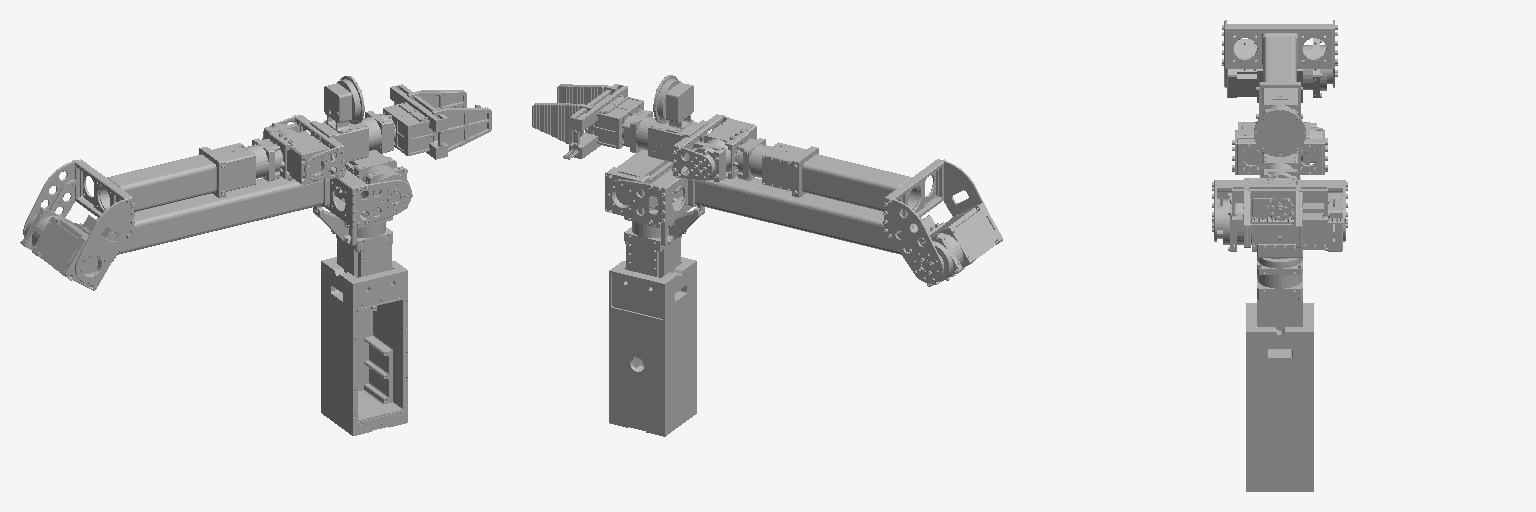
URDF robot description (lnt_urdf_description):
<robot
  name="lnt_urdf_description">
  <link
    name="base_link">
    <inertial>
      <origin
        xyz="-0.0406419965644875 -0.0393560204265091 0.148760063652187"
        rpy="0 0 0" />
      <mass
        value="0.854155845147981" />
      <inertia
        ixx="0.00710852611283595"
        ixy="-3.91661557279289E-07"
        ixz="7.71172614028277E-05"
        iyy="0.0072097253379719"
        iyz="8.32333709729229E-05"
        izz="0.00103326398530037" />
    </inertial>
    <visual>
      <origin
        xyz="0 0 0"
        rpy="0 0 0" />
      <geometry>
        <mesh
          filename="package://lnt_urdf_description/meshes/base_link.STL" />
      </geometry>
      <material
        name="">
        <color
          rgba="0.752941176470588 0.752941176470588 0.752941176470588 1" />
      </material>
    </visual>
    <collision>
      <origin
        xyz="0 0 0"
        rpy="0 0 0" />
      <geometry>
        <mesh
          filename="package://lnt_urdf_description/meshes/base_link.STL" />
      </geometry>
    </collision>
  </link>

  <link
    name="link_1">
    <inertial>
      <origin
        xyz="-4.40057691612344E-05 0.00293563013815038 -0.00141724219797013"
        rpy="0 0 0" />
      <mass
        value="0.377267733129056" />
      <inertia
        ixx="0.000641277937131853"
        ixy="-1.14785245516926E-07"
        ixz="-5.7933074601794E-07"
        iyy="0.00019199703768203"
        iyz="-6.07837956690096E-06"
        izz="0.000630748841506656" />
    </inertial>
    <visual>
      <origin
        xyz="0 0 0"
        rpy="0 0 0" />
      <geometry>
        <mesh
          filename="package://lnt_urdf_description/meshes/link_1.STL" />
      </geometry>
      <material
        name="">
        <color
          rgba="0.752941176470588 0.752941176470588 0.752941176470588 1" />
      </material>
    </visual>
    <collision>
      <origin
        xyz="0 0 0"
        rpy="0 0 0" />
      <geometry>
        <mesh
          filename="package://lnt_urdf_description/meshes/link_1.STL" />
      </geometry>
    </collision>
  </link>

  <joint
    name="joint1"
    type="revolute">
    <origin
      xyz="-0.04013 -0.04013 0.335"
      rpy="-6.163E-33 -3.3635E-16 5.5511E-17" />
    <parent
      link="base_link" />
    <child
      link="link_1" />
    <axis
      xyz="0 0 1" />
    <limit
      lower="-3.14"
      upper="3.14"
      effort="0"
      velocity="0" />
  </joint>

  <link
    name="link_2">
    <inertial>
      <origin
        xyz="-0.311175688435593 -0.000520999176908732 -0.00364100635167752"
        rpy="0 0 0" />
      <mass
        value="0.555909264188642" />
      <inertia
        ixx="0.000771033191957727"
        ixy="2.35747155362987E-05"
        ixz="3.15533598988728E-05"
        iyy="0.0144365415387292"
        iyz="1.35189943906771E-06"
        izz="0.0139570184140524" />
    </inertial>
    <visual>
      <origin
        xyz="0 0 0"
        rpy="0 0 0" />
      <geometry>
        <mesh
          filename="package://lnt_urdf_description/meshes/link_2.STL" />
      </geometry>
      <material
        name="">
        <color
          rgba="0.752941176470588 0.752941176470588 0.752941176470588 1" />
      </material>
    </visual>
    <collision>
      <origin
        xyz="0 0 0"
        rpy="0 0 0" />
      <geometry>
        <mesh
          filename="package://lnt_urdf_description/meshes/link_2.STL" />
      </geometry>
    </collision>
  </link>

  <joint
    name="joint2"
    type="revolute">
    <origin
      xyz="0 0 0"
      rpy="-1.5708 -8.4486E-17 4.6491E-16" />
    <parent
      link="link_1" />
    <child
      link="link_2" />
    <axis
      xyz="0 0 1" />
    <limit
      lower="0"
      upper="3.14"
      effort="0"
      velocity="0" />
  </joint>

  <link
    name="link_3">
    <inertial>
      <origin
        xyz="0.169474131534033 -0.0500512457629593 0.00170509113305036"
        rpy="0 0 0" />
      <mass
        value="0.292706779888183" />
      <inertia
        ixx="0.000332555030455513"
        ixy="0.000161514105326486"
        ixz="8.37410047316718E-05"
        iyy="0.00280358448042595"
        iyz="-2.4432046400321E-05"
        izz="0.00267450897995475" />
    </inertial>
    <visual>
      <origin
        xyz="0 0 0"
        rpy="0 0 0" />
      <geometry>
        <mesh
          filename="package://lnt_urdf_description/meshes/link_3.STL" />
      </geometry>
      <material
        name="">
        <color
          rgba="0.752941176470588 0.752941176470588 0.752941176470588 1" />
      </material>
    </visual>
    <collision>
      <origin
        xyz="0 0 0"
        rpy="0 0 0" />
      <geometry>
        <mesh
          filename="package://lnt_urdf_description/meshes/link_3.STL" />
      </geometry>
    </collision>
  </link>

  <joint
    name="joint3"
    type="revolute">
    <origin
      xyz="-0.43132 -0.0012844 0"
      rpy="2.9334E-15 -4.3854E-15 -1.3983E-29" />
    <parent
      link="link_2" />
    <child
      link="link_3" />
    <axis
      xyz="0 0 1" />
    <limit
      lower="-3.14"
      upper="0"
      effort="0"
      velocity="0" />
  </joint>

  <link
    name="link_4">
    <inertial>
      <origin
        xyz="-7.39902665313208E-05 0.00465167357643104 0.0389281580850403"
        rpy="0 0 0" />
      <mass
        value="0.159649260916991" />
      <inertia
        ixx="0.000133249401429536"
        ixy="-4.75917767768121E-08"
        ixz="-3.0892159510496E-07"
        iyy="5.32131244910627E-05"
        iyz="-1.80050439489612E-06"
        izz="0.000127949156669396" />
    </inertial>
    <visual>
      <origin
        xyz="0 0 0"
        rpy="0 0 0" />
      <geometry>
        <mesh
          filename="package://lnt_urdf_description/meshes/link_4.STL" />
      </geometry>
      <material
        name="">
        <color
          rgba="0.752941176470588 0.752941176470588 0.752941176470588 1" />
      </material>
    </visual>
    <collision>
      <origin
        xyz="0 0 0"
        rpy="0 0 0" />
      <geometry>
        <mesh
          filename="package://lnt_urdf_description/meshes/link_4.STL" />
      </geometry>
    </collision>
  </link>

  <joint
    name="joint4"
    type="revolute">
    <origin
      xyz="0.2911 -0.05351 0"
      rpy="-1.5708 -3.8008E-15 -1.5708" />
    <parent
      link="link_3" />
    <child
      link="link_4" />
    <axis
      xyz="0 0 -1" />
    <limit
      lower="-2.09"
      upper="2.09"
      effort="0"
      velocity="0" />
  </joint>

  <link
    name="link_5">
    <inertial>
      <origin
        xyz="0.00833031698142361 0.0701915459000639 0.00103030017205778"
        rpy="0 0 0" />
      <mass
        value="0.215222730814981" />
      <inertia
        ixx="0.000280999987740405"
        ixy="-4.6954389784785E-07"
        ixz="1.94581019886863E-06"
        iyy="0.000198557406368771"
        iyz="1.75539877526659E-05"
        izz="0.000307113755598204" />
    </inertial>
    <visual>
      <origin
        xyz="0 0 0"
        rpy="0 0 0" />
      <geometry>
        <mesh
          filename="package://lnt_urdf_description/meshes/link_5.STL" />
      </geometry>
      <material
        name="">
        <color
          rgba="0.752941176470588 0.752941176470588 0.752941176470588 1" />
      </material>
    </visual>
    <collision>
      <origin
        xyz="0 0 0"
        rpy="0 0 0" />
      <geometry>
        <mesh
          filename="package://lnt_urdf_description/meshes/link_5.STL" />
      </geometry>
    </collision>
  </link>

  <joint
    name="joint5"
    type="revolute">
    <origin
      xyz="0 0 0.041"
      rpy="1.5708 4.3758E-16 -3.0787E-17" />
    <parent
      link="link_4" />
    <child
      link="link_5" />
    <axis
      xyz="0 0 -1" />
    <limit
      lower="-1.57"
      upper="1.57"
      effort="0"
      velocity="0" />
  </joint>

  <link
    name="link_6">
    <inertial>
      <origin
        xyz="-8.59162970415772E-05 0.00626177313801288 0.0405572933052834"
        rpy="0 0 0" />
      <mass
        value="0.110597086440397" />
      <inertia
        ixx="9.9894118619703E-05"
        ixy="-7.52616828492589E-08"
        ixz="-1.3380969124737E-07"
        iyy="4.95262329924643E-05"
        iyz="6.80967667485631E-06"
        izz="9.70117123728459E-05" />
    </inertial>
    <visual>
      <origin
        xyz="0 0 0"
        rpy="0 0 0" />
      <geometry>
        <mesh
          filename="package://lnt_urdf_description/meshes/link_6.STL" />
      </geometry>
      <material
        name="">
        <color
          rgba="0.752941176470588 0.752941176470588 0.752941176470588 1" />
      </material>
    </visual>
    <collision>
      <origin
        xyz="0 0 0"
        rpy="0 0 0" />
      <geometry>
        <mesh
          filename="package://lnt_urdf_description/meshes/link_6.STL" />
      </geometry>
    </collision>
  </link>

  <joint
    name="joint6"
    type="revolute">
    <origin
      xyz="0 0.122 0"
      rpy="-1.5708 3.0787E-17 2.7105E-16" />
    <parent
      link="link_5" />
    <child
      link="link_6" />
    <axis
      xyz="0 0 -1" />
    <limit
      lower="-3.14"
      upper="3.14"
      effort="0"
      velocity="0" />
  </joint>

  <!--This is a fake joint to interpret as tool frame-->

   <joint name="lnt_gripper_tool_frame_joint" type="fixed">
    <parent link="link_6"/>
    <child link="lnt_gripper_tool_frame" />
    <origin xyz="0 0 0.14" rpy="0 0 0"/>
  </joint>

 
  <link name="lnt_gripper_tool_frame">

    <!-- This is the coordinate system of the end effector (this is the position
         used in IK); there is no actual arm part attached to this link -->

    <visual>
      <origin rpy="0 0 0" xyz="0 0 0.001"/>
      <geometry>
        <box size="0.005 0.005 0.005"/>
      </geometry>
      <material name="grey" />
    </visual>
    <collision>
      <origin rpy="0 0 0" xyz="0 0 0.01"/>
      <geometry>
        <box size="0.01 0.01 0.01"/>
      </geometry>
      <material name="grey" />
    </collision>
    <inertial>
      <mass value="0.0012" />
      <origin xyz="0 0 0"/>
      <inertia ixx="2e-8" ixy="0.0" ixz="0.0"
        iyy="2e-8" iyz="0.0"
        izz="2e-8" />
    </inertial>
 </link>  

  <link
    name="left_grip_link">
    <inertial>
      <origin
        xyz="0.0446303908491625 -0.00183644059394805 0.00663270264117533"
        rpy="0 0 0" />
      <mass
        value="0.0185428410821073" />
      <inertia
        ixx="6.26215169801845E-06"
        ixy="1.15375995015168E-06"
        ixz="-1.51856873495303E-06"
        iyy="1.24340447116661E-05"
        iyz="6.71376492758006E-07"
        izz="1.52881224340952E-05" />
    </inertial>
    <visual>
      <origin
        xyz="0 0 0"
        rpy="0 0 0" />
      <geometry>
        <mesh
          filename="package://lnt_urdf_description/meshes/left_grip_link.STL" />
      </geometry>
      <material
        name="">
        <color
          rgba="0.752941176470588 0.752941176470588 0.752941176470588 1" />
      </material>
    </visual>
    <collision>
      <origin
        xyz="0 0 0"
        rpy="0 0 0" />
      <geometry>
        <mesh
          filename="package://lnt_urdf_description/meshes/left_grip_link.STL" />
      </geometry>
    </collision>
  </link>

  <joint
    name="left_grip_joint"
    type="prismatic">
    <origin
      xyz="-0.00038798 -0.0193 0.1357"
      rpy="1.5708 1.5708 0" />
    <parent
      link="link_6" />
    <child
      link="left_grip_link" />
    <axis
      xyz="0 0 1" />
    <limit
      lower="0"
      upper="0"
      effort="0"
      velocity="0" />
  </joint>
  <link
    name="right_grip_link">
    <inertial>
      <origin
        xyz="0.00183644059394839 0.0446303908491771 0.00663270264104472"
        rpy="0 0 0" />
      <mass
        value="0.0185428410821077" />
      <inertia
        ixx="1.24340447117043E-05"
        ixy="-1.15375995016135E-06"
        ixz="-6.71376492688537E-07"
        iyy="6.26215242543214E-06"
        iyz="-1.51856815875648E-06"
        izz="1.52881217067198E-05" />
    </inertial>
    <visual>
      <origin
        xyz="0 0 0"
        rpy="0 0 0" />
      <geometry>
        <mesh
          filename="package://lnt_urdf_description/meshes/right_grip_link.STL" />
      </geometry>
      <material
        name="">
        <color
          rgba="0.752941176470588 0.752941176470588 0.752941176470588 1" />
      </material>
    </visual>
    <collision>
      <origin
        xyz="0 0 0"
        rpy="0 0 0" />
      <geometry>
        <mesh
          filename="package://lnt_urdf_description/meshes/right_grip_link.STL" />
      </geometry>
    </collision>
  </link>
  <joint
    name="right_grip_joint"
    type="prismatic">
    <origin
      xyz="0.00038798 0.0423 0.1358"
      rpy="-1.5708 -1.108E-15 -3.1416" />
    <parent
      link="link_6" />
    <child
      link="right_grip_link" />
    <axis
      xyz="0 0 -1" />
    <limit
      lower="0"
      upper="0"
      effort="0"
      velocity="0" />
  </joint>
</robot>

--- Facts derived from the render (not from the file) ---
The picture shows the robot from 3 angles, left to right: view 1: azimuth 30°, elevation 25°; view 2: azimuth 150°, elevation 25°; view 3: azimuth 270°, elevation 25°; orthographic projection.
Robot: lnt_urdf_description — 10 links, 9 joints (6 revolute, 2 prismatic, 1 fixed); root link base_link; default pose: every joint at zero.
Visible links, largest first — view 1: base_link, link_2, link_3, link_5, link_6, link_4, right_grip_link, link_1, left_grip_link; view 2: base_link, link_2, link_3, link_5, link_6, link_4, link_1, left_grip_link, right_grip_link; view 3: base_link, link_3, link_5, link_6, link_2, link_1, link_4, right_grip_link, left_grip_link.
Link boxes in pixels (bbox=[...]): base_link: bbox=[313, 207, 407, 435]; link_2: bbox=[20, 167, 411, 290]; link_3: bbox=[23, 138, 284, 283]; link_5: bbox=[262, 76, 395, 180]; link_6: bbox=[383, 84, 447, 159]; link_4: bbox=[263, 123, 330, 184]; right_grip_link: bbox=[432, 107, 491, 151]; link_1: bbox=[335, 150, 412, 215]; left_grip_link: bbox=[407, 90, 466, 109]; base_link: bbox=[609, 207, 704, 436]; link_2: bbox=[606, 167, 1002, 286]; link_3: bbox=[733, 138, 987, 283]; link_5: bbox=[622, 75, 730, 179]; link_6: bbox=[569, 84, 643, 158]; link_4: bbox=[689, 118, 756, 182]; link_1: bbox=[605, 149, 682, 218]; left_grip_link: bbox=[532, 103, 592, 159]; right_grip_link: bbox=[557, 84, 617, 104]; base_link: bbox=[1246, 257, 1313, 491]; link_3: bbox=[1222, 20, 1337, 118]; link_5: bbox=[1232, 109, 1327, 184]; link_6: bbox=[1230, 178, 1329, 231]; link_2: bbox=[1212, 38, 1347, 241]; link_1: bbox=[1217, 193, 1342, 257]; link_4: bbox=[1237, 122, 1322, 164]; right_grip_link: bbox=[1244, 184, 1293, 247]; left_grip_link: bbox=[1296, 185, 1347, 247].
Bounding box of the posed robot: 0.6341 × 0.1621 × 0.4738 m (x, y, z).
9 mesh visuals loaded from 9 distinct referenced files (9 binary STL).